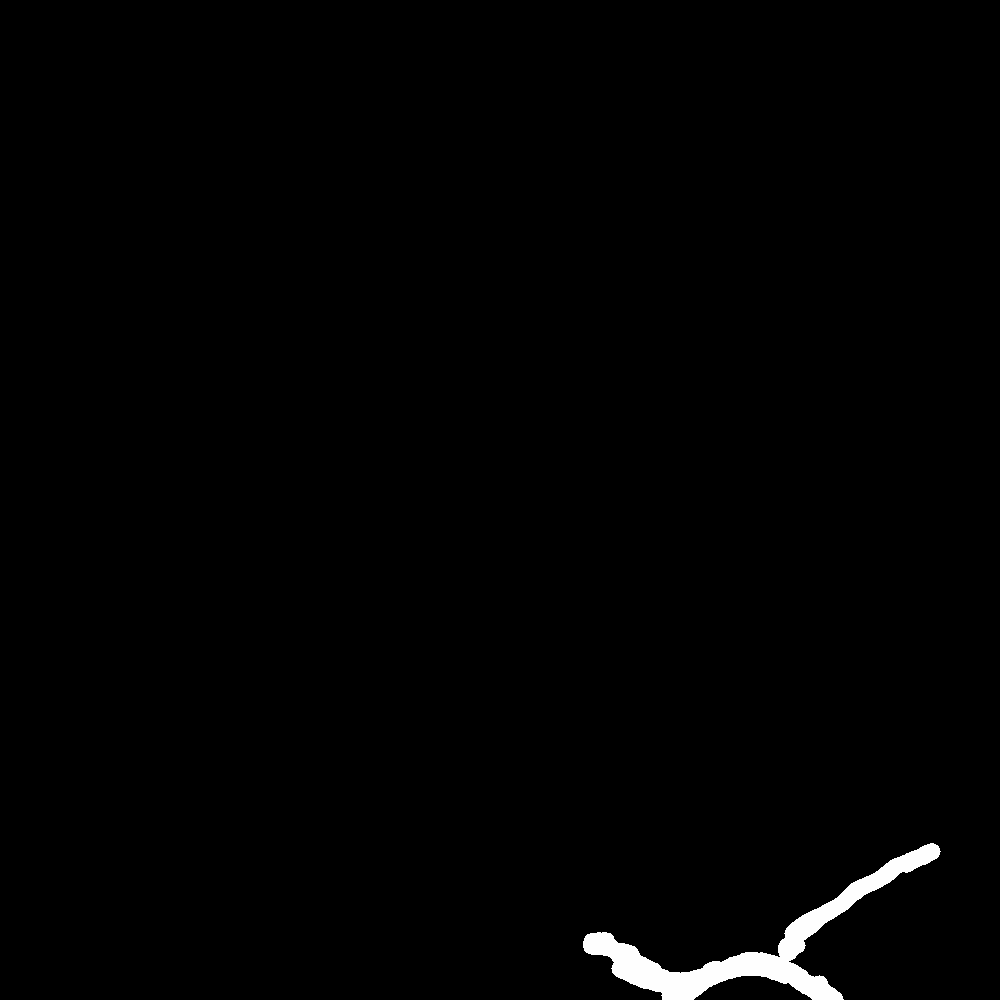illegal: (829, 845, 928, 921), (674, 946, 789, 1000)
